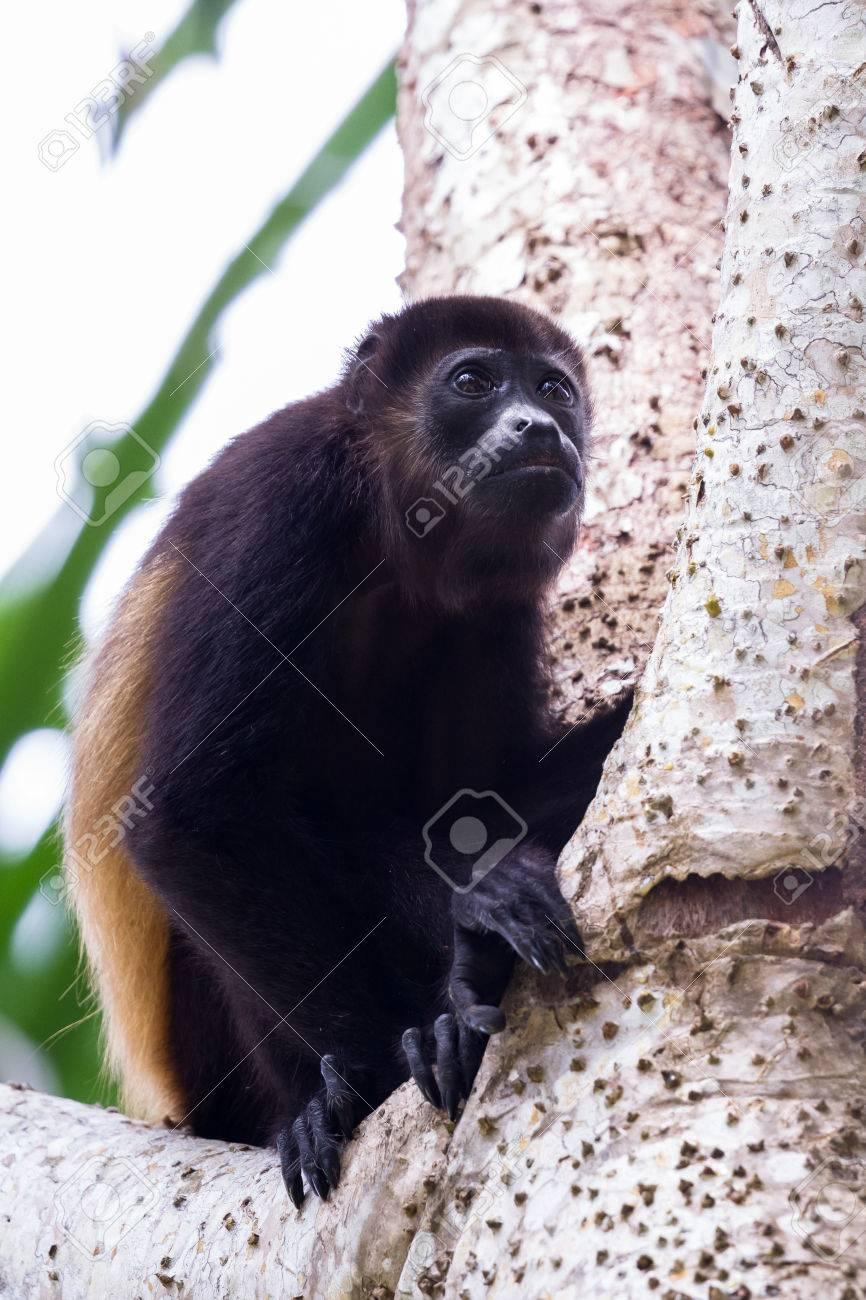monkey: (62, 295, 625, 1198)
